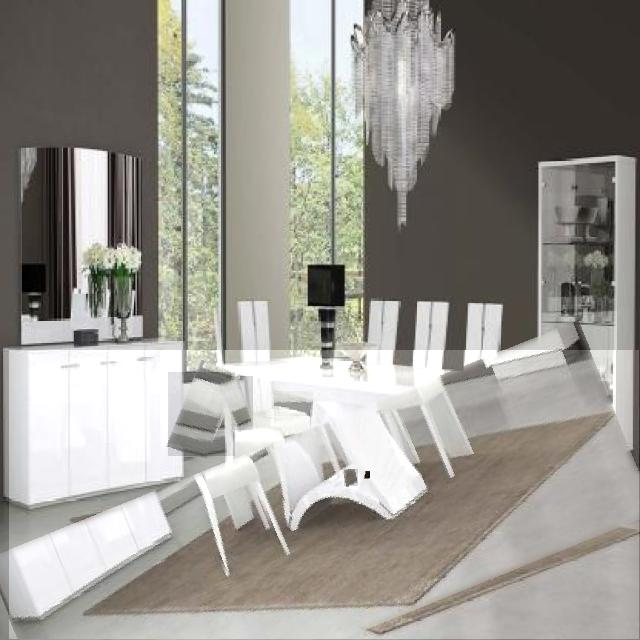floor: (10, 351, 639, 640), (168, 375, 235, 456), (219, 377, 253, 430), (274, 391, 313, 416), (344, 470, 358, 486), (365, 471, 370, 478)
